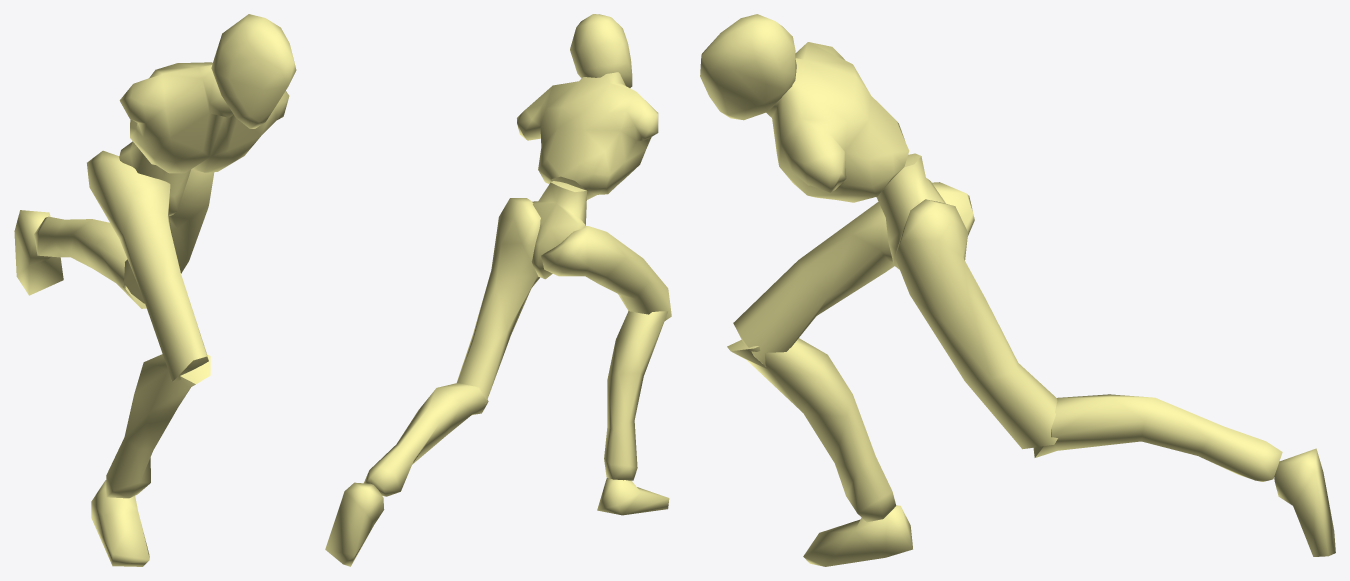
Rendered from filth37.obj.
The picture shows the model from 3 angles, left to right: view 1: azimuth 30°, elevation 25°; view 2: azimuth 150°, elevation 25°; view 3: azimuth 270°, elevation 25°; orthographic projection. The views are drawn at different scales.
Parts seen in each view (by area): view 1: Melee_Husk; view 2: Melee_Husk; view 3: Melee_Husk.
Part boxes in pixels (<box>): Melee_Husk: <box>14,14,296,566</box>; Melee_Husk: <box>325,14,671,566</box>; Melee_Husk: <box>700,14,1335,566</box>.
Bounding box in the file's own units: 22.18 × 64.5 × 62.72.
